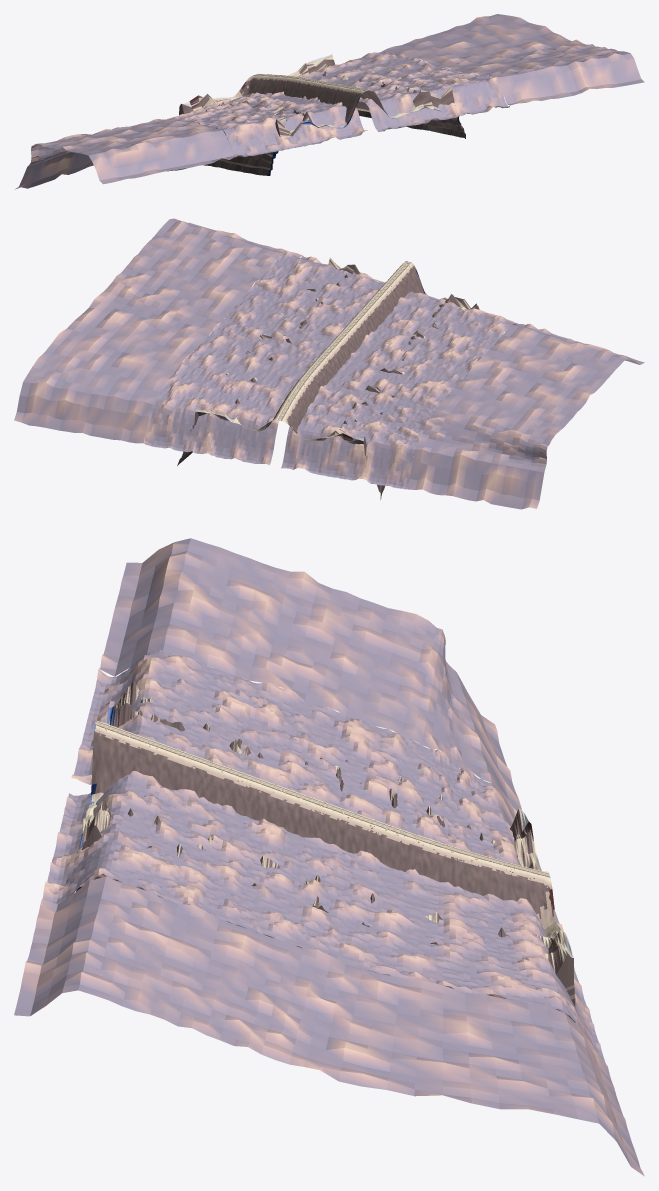
3 renders of one model, top to bottom at view 1: azimuth 30°, elevation 25°; view 2: azimuth 150°, elevation 25°; view 3: azimuth 270°, elevation 25°, orthographic. The views are drawn at different scales.
Parts seen in each view (by area): view 1: S09_Cloud_RF_05, S09_Cloud_LF_05, S09_Cloud_RN_05, S09_Cloud_LN_05, S09_Cloud_LF_01, S09_Cloud_RF_00, S09_Cloud_LF_02, S09_Cloud_LN_01, S09_Terrain_R_14388, S09_Cloud_LF_00, S09_Terrain_L_14388, S09_Terrain_R_12130 (+20 smaller); view 2: S09_Cloud_LF_00, S09_Cloud_LN_00, S09_Cloud_RN_00, S09_Cloud_RF_00, S09_Cloud_LF_01, S09_Cloud_LN_01, S09_Cloud_LF_02, S09_Cloud_RF_04, S09_Cloud_LF_03, S09_Cloud_RF_03, S09_Cloud_LF_04, S09_Cloud_RN_03 (+19 smaller); view 3: S09_Cloud_LF_01, S09_Cloud_LF_02, S09_Cloud_LN_01, S09_Cloud_LF_04, S09_Cloud_RF_04, S09_Cloud_RF_03, S09_Cloud_LF_03, S09_Cloud_LN_02, S09_Cloud_LF_00, S09_Cloud_LN_04, S09_Cloud_LN_03, S09_Cloud_RF_02 (+20 smaller).
Boxes of the visible parts, <box> form: S09_Cloud_RF_05: <box>85,129,236,184</box>; S09_Cloud_LF_05: <box>494,52,644,105</box>; S09_Cloud_RN_05: <box>220,105,367,157</box>; S09_Cloud_LN_05: <box>362,76,509,131</box>; S09_Cloud_LF_01: <box>401,18,565,65</box>; S09_Cloud_RF_00: <box>15,151,93,189</box>; S09_Cloud_LF_02: <box>434,37,585,70</box>; S09_Cloud_LN_01: <box>314,53,432,84</box>; S09_Terrain_R_14388: <box>250,88,365,175</box>; S09_Cloud_LF_00: <box>382,14,519,54</box>; S09_Terrain_L_14388: <box>355,84,465,138</box>; S09_Terrain_R_12130: <box>167,75,276,171</box>; S09_Cloud_LF_00: <box>14,358,163,443</box>; S09_Cloud_LN_00: <box>144,385,279,465</box>; S09_Cloud_RN_00: <box>281,414,420,489</box>; S09_Cloud_RF_00: <box>407,436,546,509</box>; S09_Cloud_LF_01: <box>38,313,196,384</box>; S09_Cloud_LN_01: <box>164,347,300,407</box>; S09_Cloud_LF_02: <box>82,282,225,347</box>; S09_Cloud_RF_04: <box>481,330,619,392</box>; S09_Cloud_LF_03: <box>112,254,251,316</box>; S09_Cloud_RF_03: <box>455,357,593,422</box>; S09_Cloud_LF_04: <box>138,224,276,286</box>; S09_Cloud_RN_03: <box>352,327,480,387</box>; S09_Cloud_LF_01: <box>361,974,527,1109</box>; S09_Cloud_LF_02: <box>262,944,381,1086</box>; S09_Cloud_LN_01: <box>381,869,506,998</box>; S09_Cloud_LF_04: <box>94,883,205,1026</box>; S09_Cloud_RF_04: <box>179,543,290,682</box>; S09_Cloud_RF_03: <box>263,571,374,715</box>; S09_Cloud_LF_03: <box>178,911,289,1054</box>; S09_Cloud_LN_02: <box>290,837,399,973</box>; S09_Cloud_LF_00: <box>507,999,644,1176</box>; S09_Cloud_LN_04: <box>122,775,231,911</box>; S09_Cloud_LN_03: <box>206,806,315,943</box>; S09_Cloud_RF_02: <box>346,603,442,744</box>.
Bounding box in the file's own units: 6232 × 1633 × 3541.
Materials: 1 (1 with a texture image).
